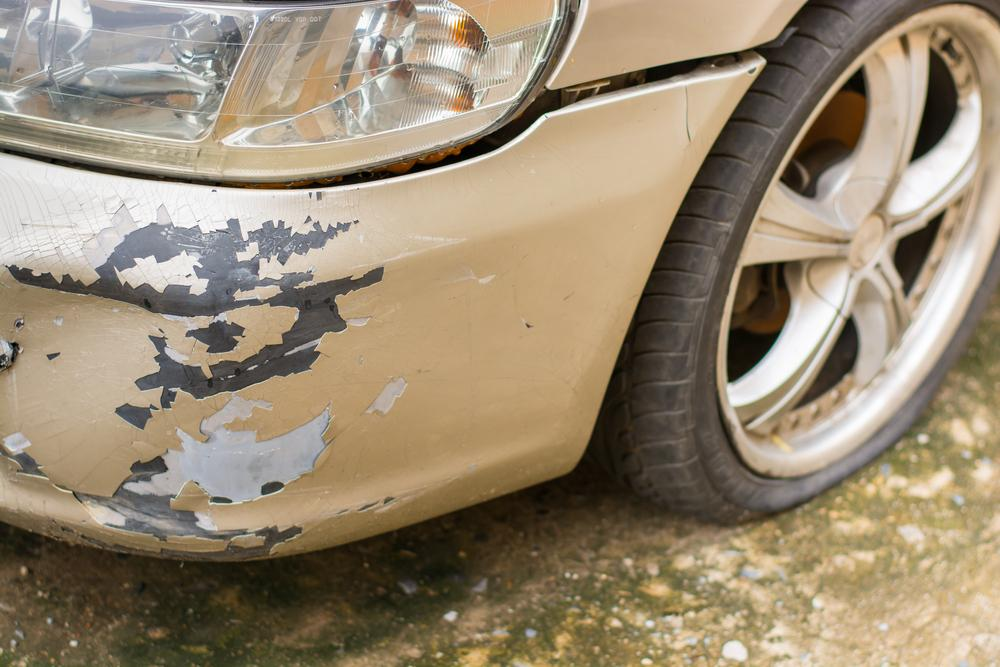scratch: (0, 200, 472, 561)
tire flat: (597, 0, 1000, 522)
